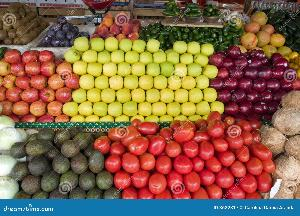apple: (68, 32, 220, 126), (202, 48, 300, 122), (0, 42, 76, 124)
avocado: (11, 122, 113, 206)
kiwi: (0, 1, 54, 47)
tomato: (100, 114, 274, 208)
